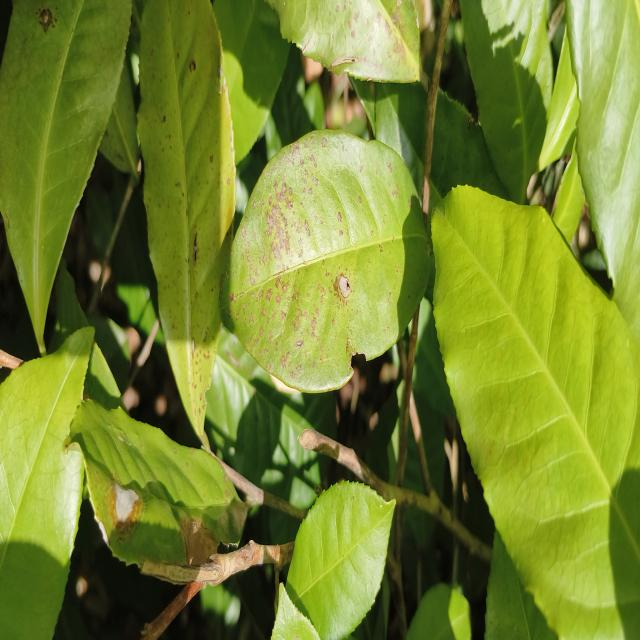Leaf: (432, 187, 640, 638), (220, 130, 430, 391), (0, 0, 131, 354), (138, 0, 235, 448), (68, 399, 246, 567), (0, 328, 94, 640), (566, 0, 640, 337), (206, 328, 337, 509), (460, 0, 553, 203), (286, 482, 395, 640), (267, 0, 420, 82), (213, 0, 289, 164), (430, 88, 507, 208), (485, 529, 558, 640), (355, 81, 427, 192), (405, 583, 471, 640)
